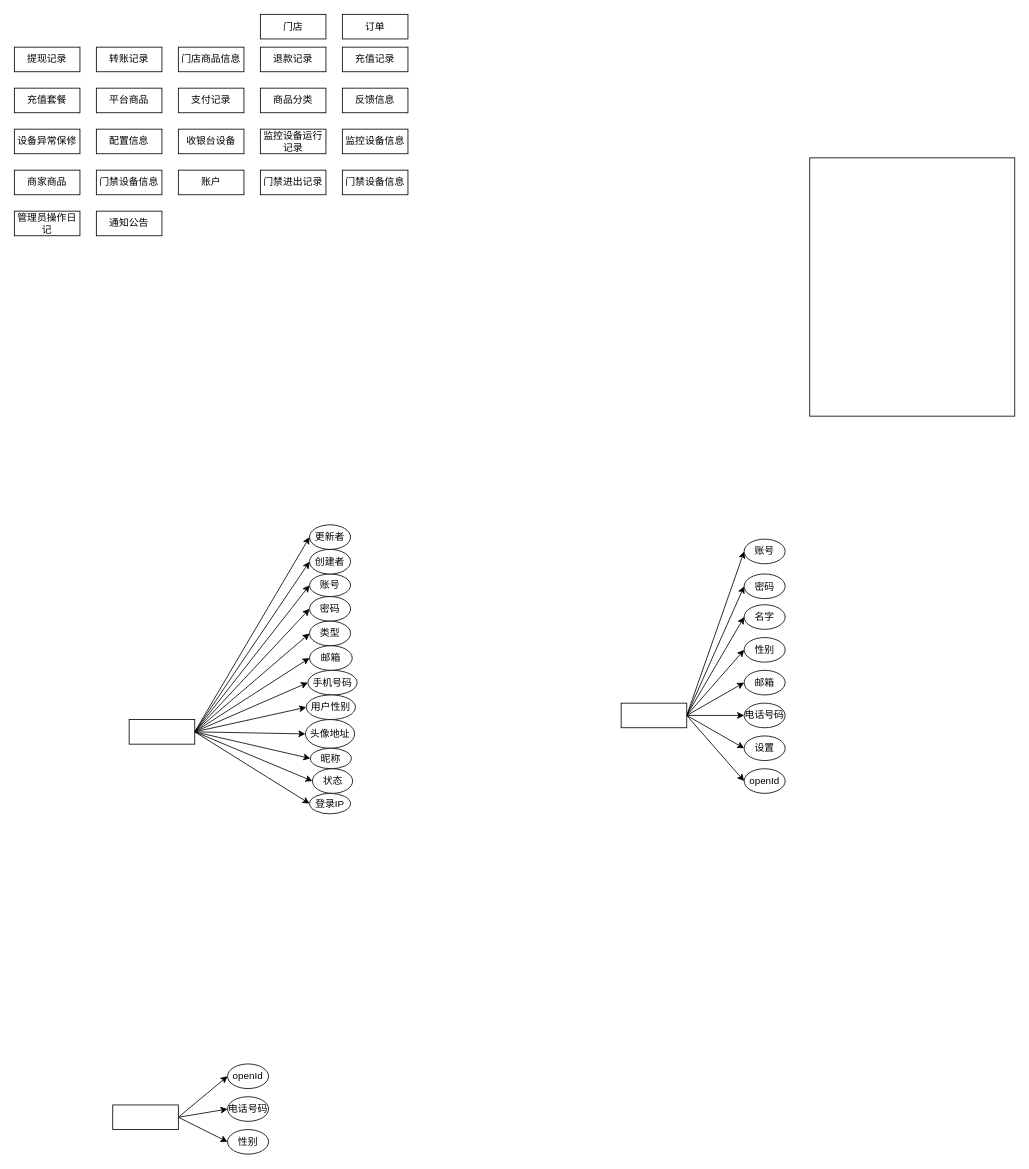
Image size: 1029x1169. Some labels were removed from this diagram. Each missing label, with the centre of its shape:
公共信息：ID、逻辑删除、创建时间、更新时间: the point at 912,286
商户: the point at 653,715
微信用户: the point at 145,1117
管理员: the point at 161,731
